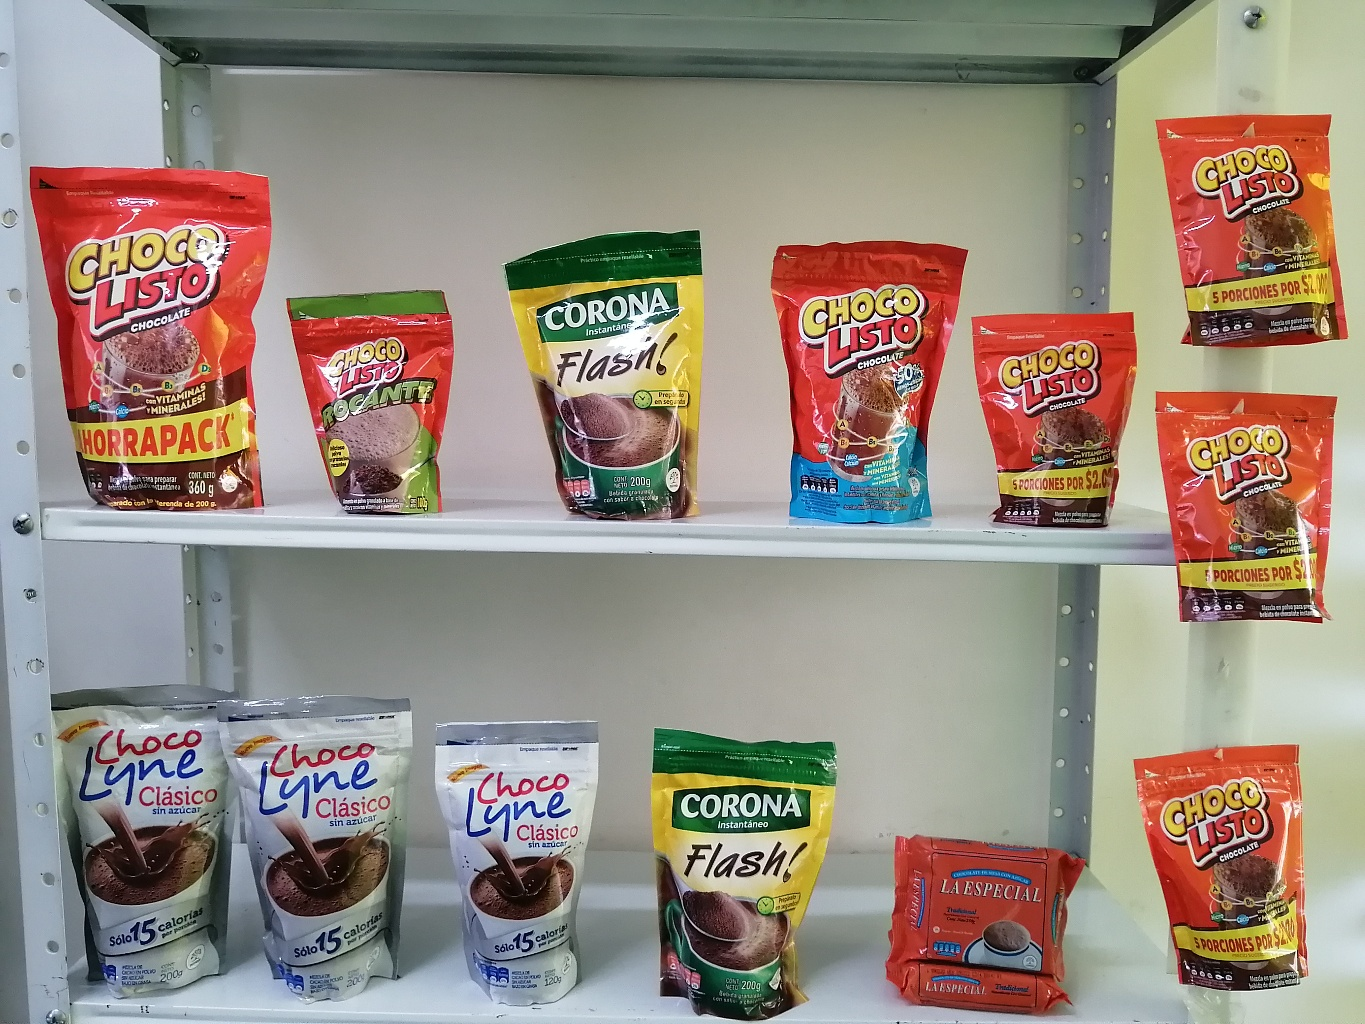COL0170102DYP10000: (274, 279, 467, 523)
COL0170103DYP10000: (1146, 104, 1357, 355)
COL0170103DYP36000: (18, 155, 304, 530)
COL0170104DYP20000: (760, 227, 965, 536)
